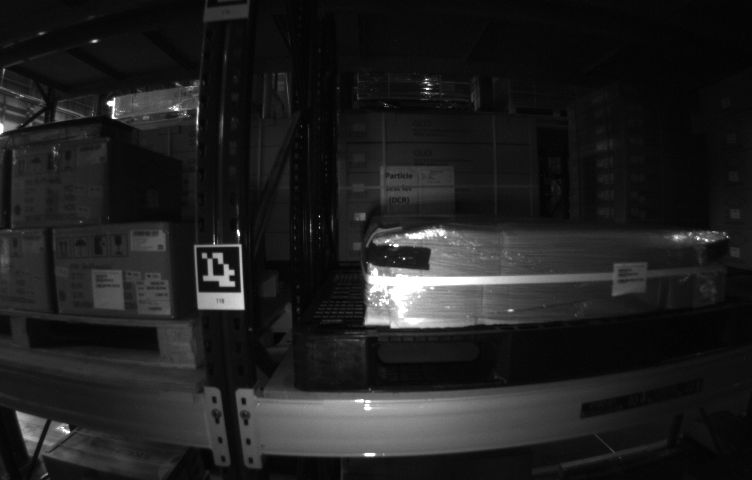True Barcode: (134, 278, 171, 319)
